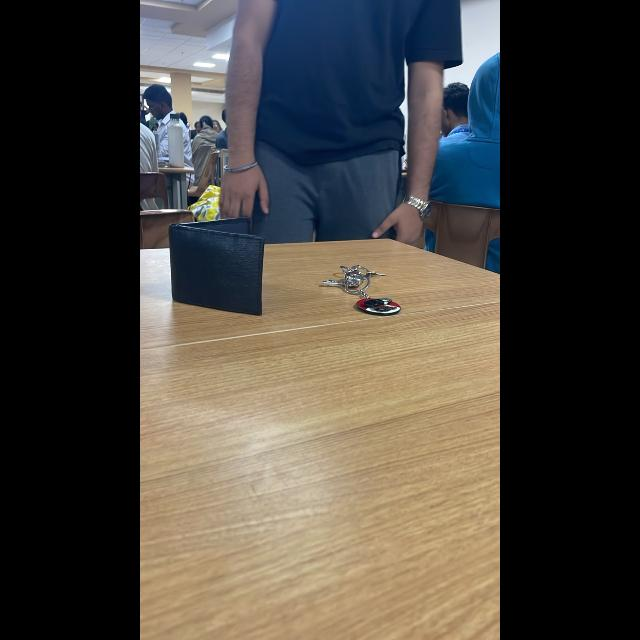keys: (324, 244, 406, 348)
wallet: (156, 199, 280, 323)
